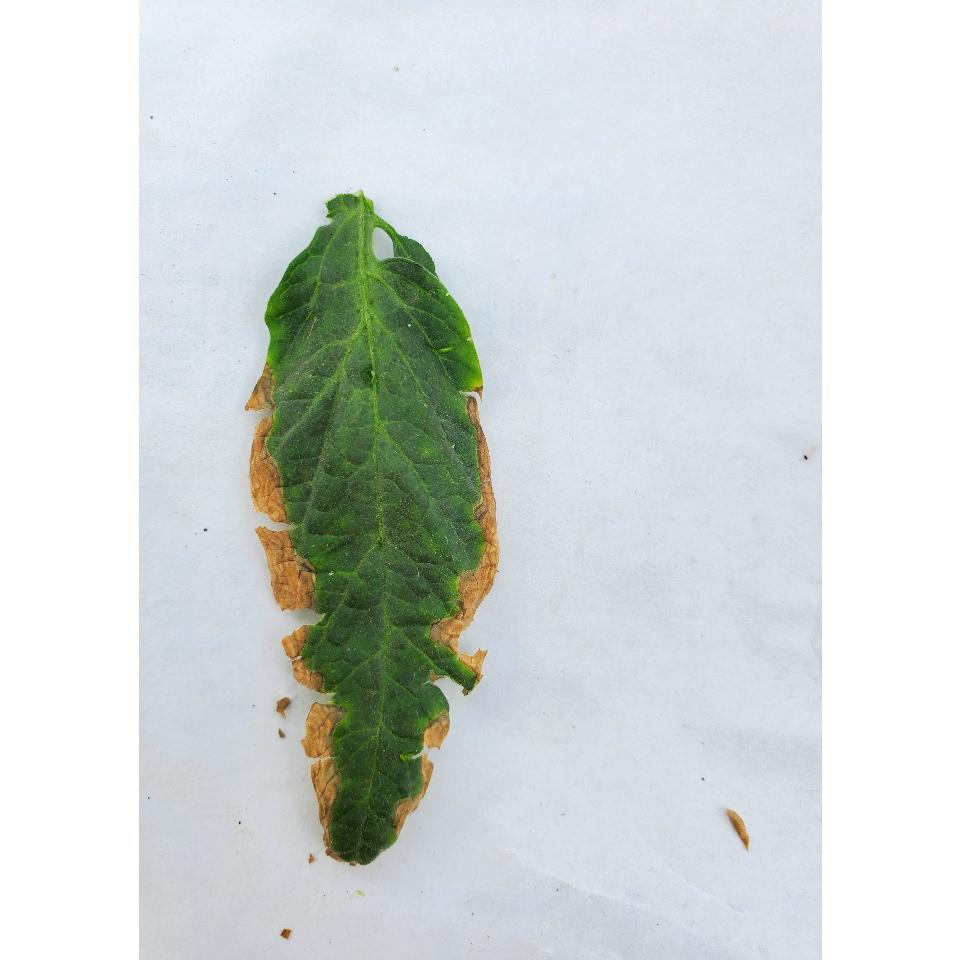tomato_bacterial_blight: (252, 170, 502, 862)
